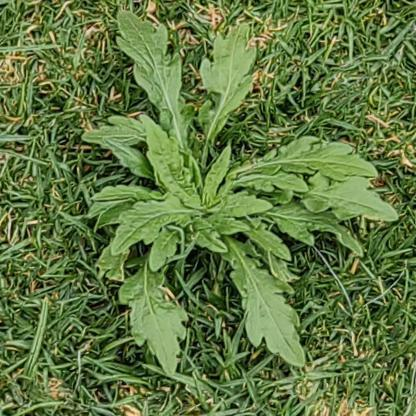Weeds: (82, 9, 398, 377)
